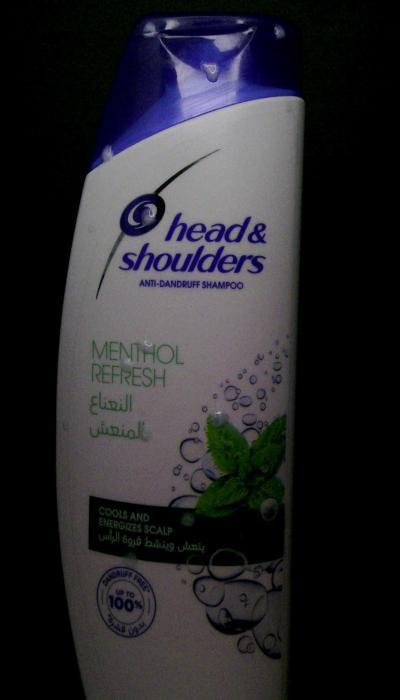pob_marg: (119, 544, 144, 578), (201, 59, 228, 88), (138, 204, 163, 235), (203, 404, 230, 432), (94, 141, 119, 169), (136, 17, 162, 43), (82, 216, 105, 245), (135, 332, 160, 358), (177, 506, 202, 532), (161, 14, 185, 39), (57, 414, 78, 438), (138, 418, 156, 446), (278, 98, 298, 123), (268, 22, 288, 45), (117, 354, 136, 378), (229, 15, 249, 28), (239, 25, 259, 36)
